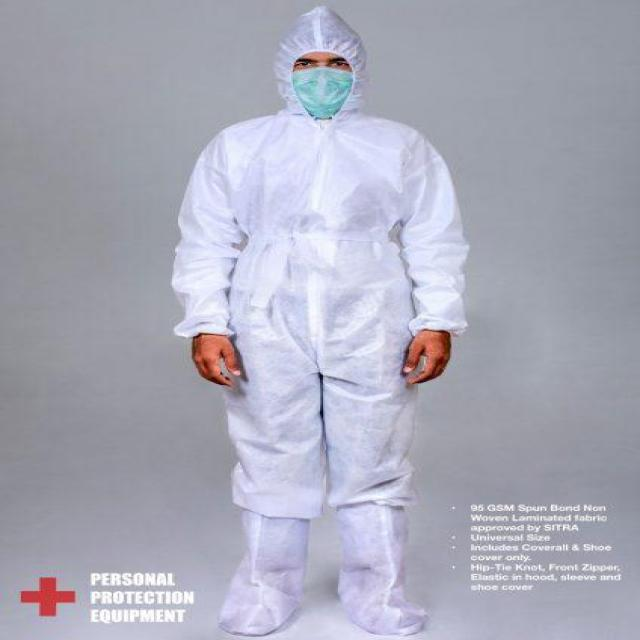Coverall: (161, 4, 474, 636)
Mask: (281, 68, 361, 119)
